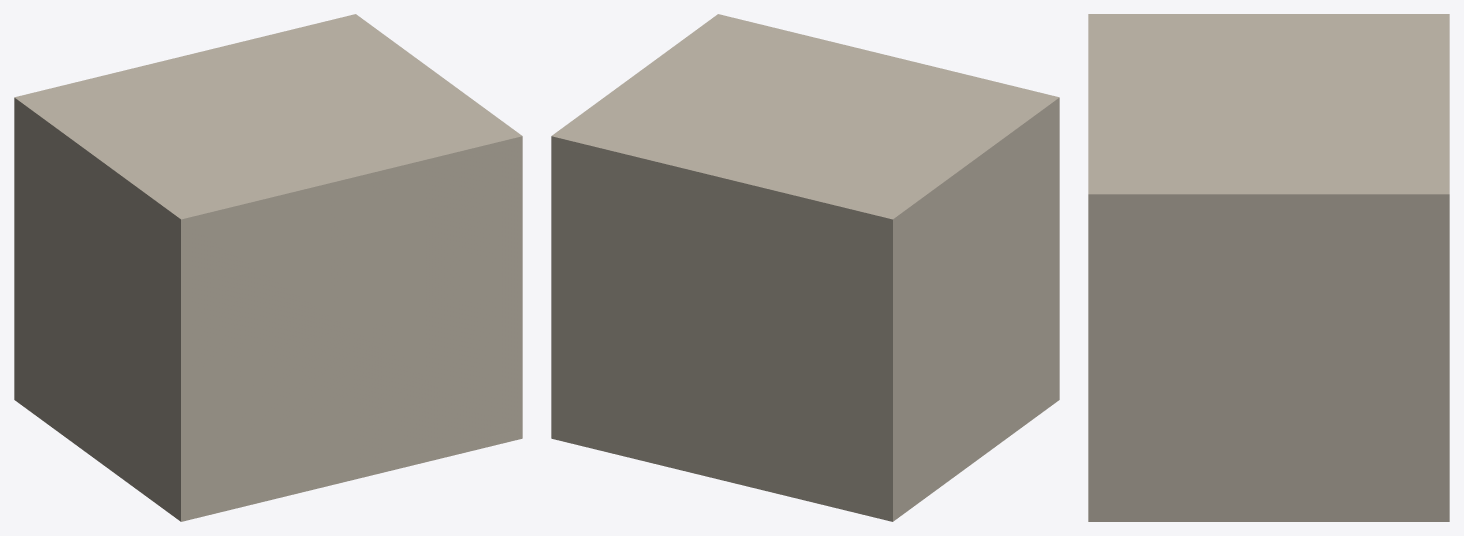
The model's file is ikea-ektorp-59299051-g2-proxy.glb.
3 views of the same model, side by side, from view 1: azimuth 30°, elevation 25°; view 2: azimuth 150°, elevation 25°; view 3: azimuth 270°, elevation 25° (orthographic). The views are drawn at different scales.
Parts seen in each view (by area): view 1: proxy_body; view 2: proxy_body; view 3: proxy_body.
Boxes of the visible parts, x1,y1,x2,y2 form: proxy_body: (14, 14, 522, 521); proxy_body: (551, 14, 1059, 521); proxy_body: (1088, 14, 1449, 521).
Size of the model in its own units: 1.04 by 0.88 by 0.88.
